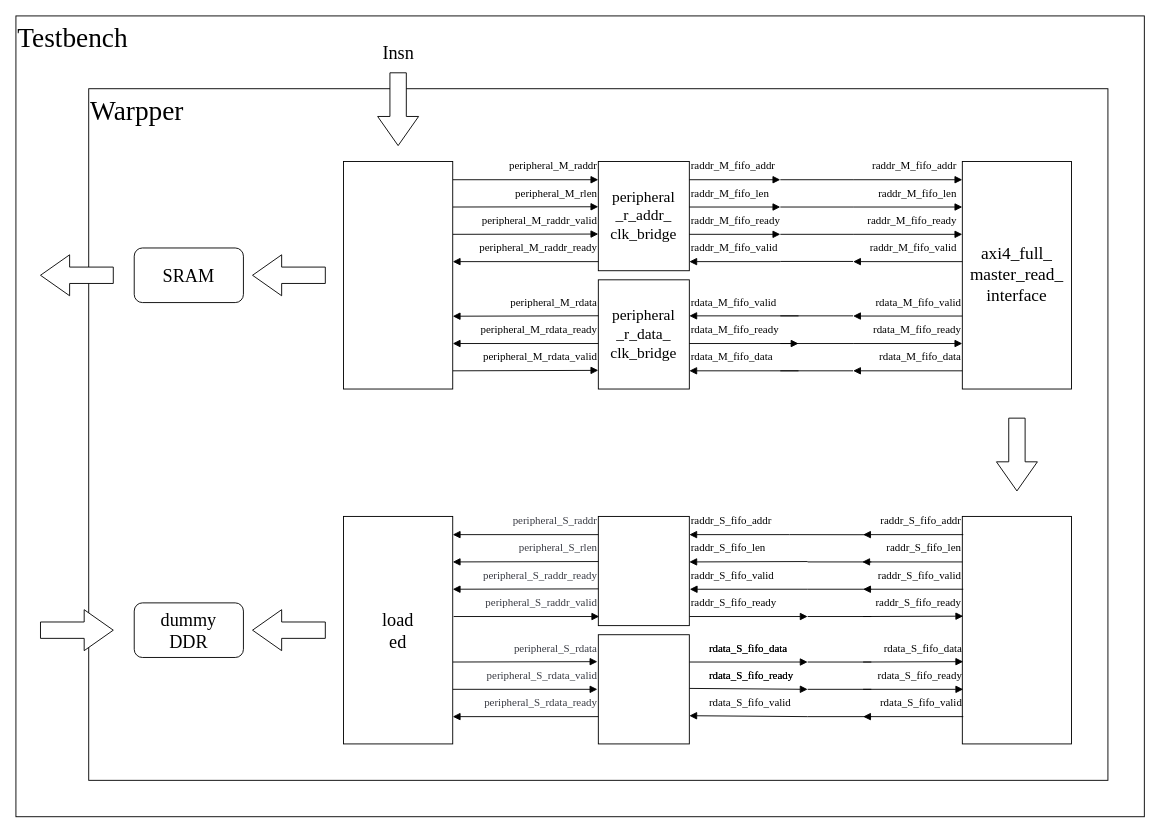
The diagram is 1160 pixels wide and 833 high, and some of its shapes have lost their labels. The shapes that lost their labels are listed below. From the top down, each one's centre as x and y in pixels, then its label:
At [398,275]: "load insn".
At [643,571]: "axi4_r_ addr_ clk_bridge".
At [1016,630]: "axi4_full_ slave_read_ interface".
At [643,689]: "axi4_r_ data_ clk_bridge".
